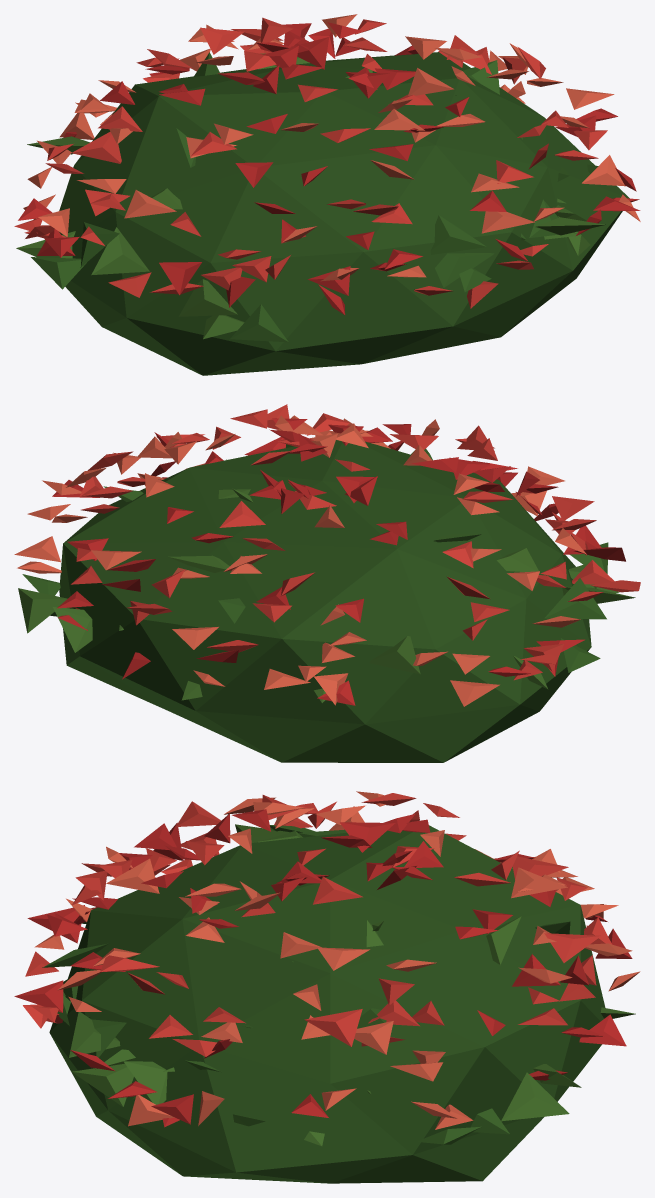
File: azalea_red.glb
3 renders of one model, top to bottom at view 1: azimuth 30°, elevation 25°; view 2: azimuth 150°, elevation 25°; view 3: azimuth 270°, elevation 25°, orthographic. The views are drawn at different scales.
Parts seen in each view (by area): view 1: azalea_red; view 2: azalea_red; view 3: azalea_red.
Part boxes in pixels (x1=…): azalea_red: x1=14, y1=14, x2=640, y2=375; azalea_red: x1=14, y1=404, x2=640, y2=762; azalea_red: x1=14, y1=791, x2=640, y2=1183.
Bounding box in the file's own units: 1.77 × 0.6343 × 1.56.
